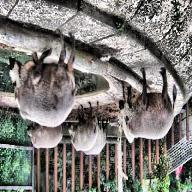boar: (0, 36, 82, 126), (112, 71, 182, 140), (58, 103, 110, 158), (22, 115, 70, 157)
